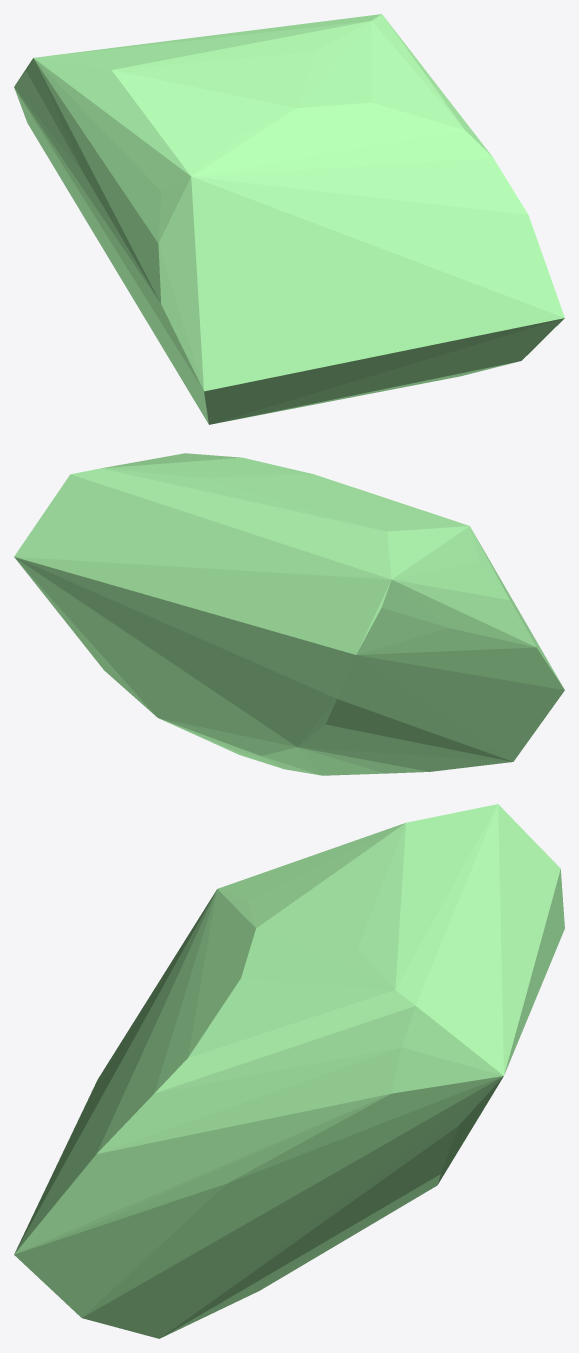
The model's file is panda_link2_resp_coll_1.dae.
The picture shows the model from 3 angles, top to bottom: view 1: azimuth 30°, elevation 25°; view 2: azimuth 150°, elevation 25°; view 3: azimuth 270°, elevation 25°; orthographic projection. The views are drawn at different scales.
Parts seen in each view (by area): view 1: node; view 2: node; view 3: node.
Part boxes in pixels (bbox=[...]): node: bbox=[14, 14, 564, 424]; node: bbox=[14, 453, 564, 775]; node: bbox=[14, 804, 564, 1338].
Size of the model in its own units: 0.11 by 0.092 by 0.1258.
